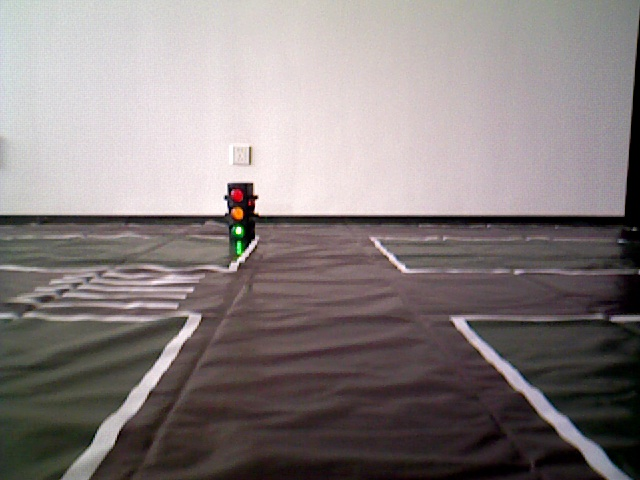green: (229, 182, 253, 235)
